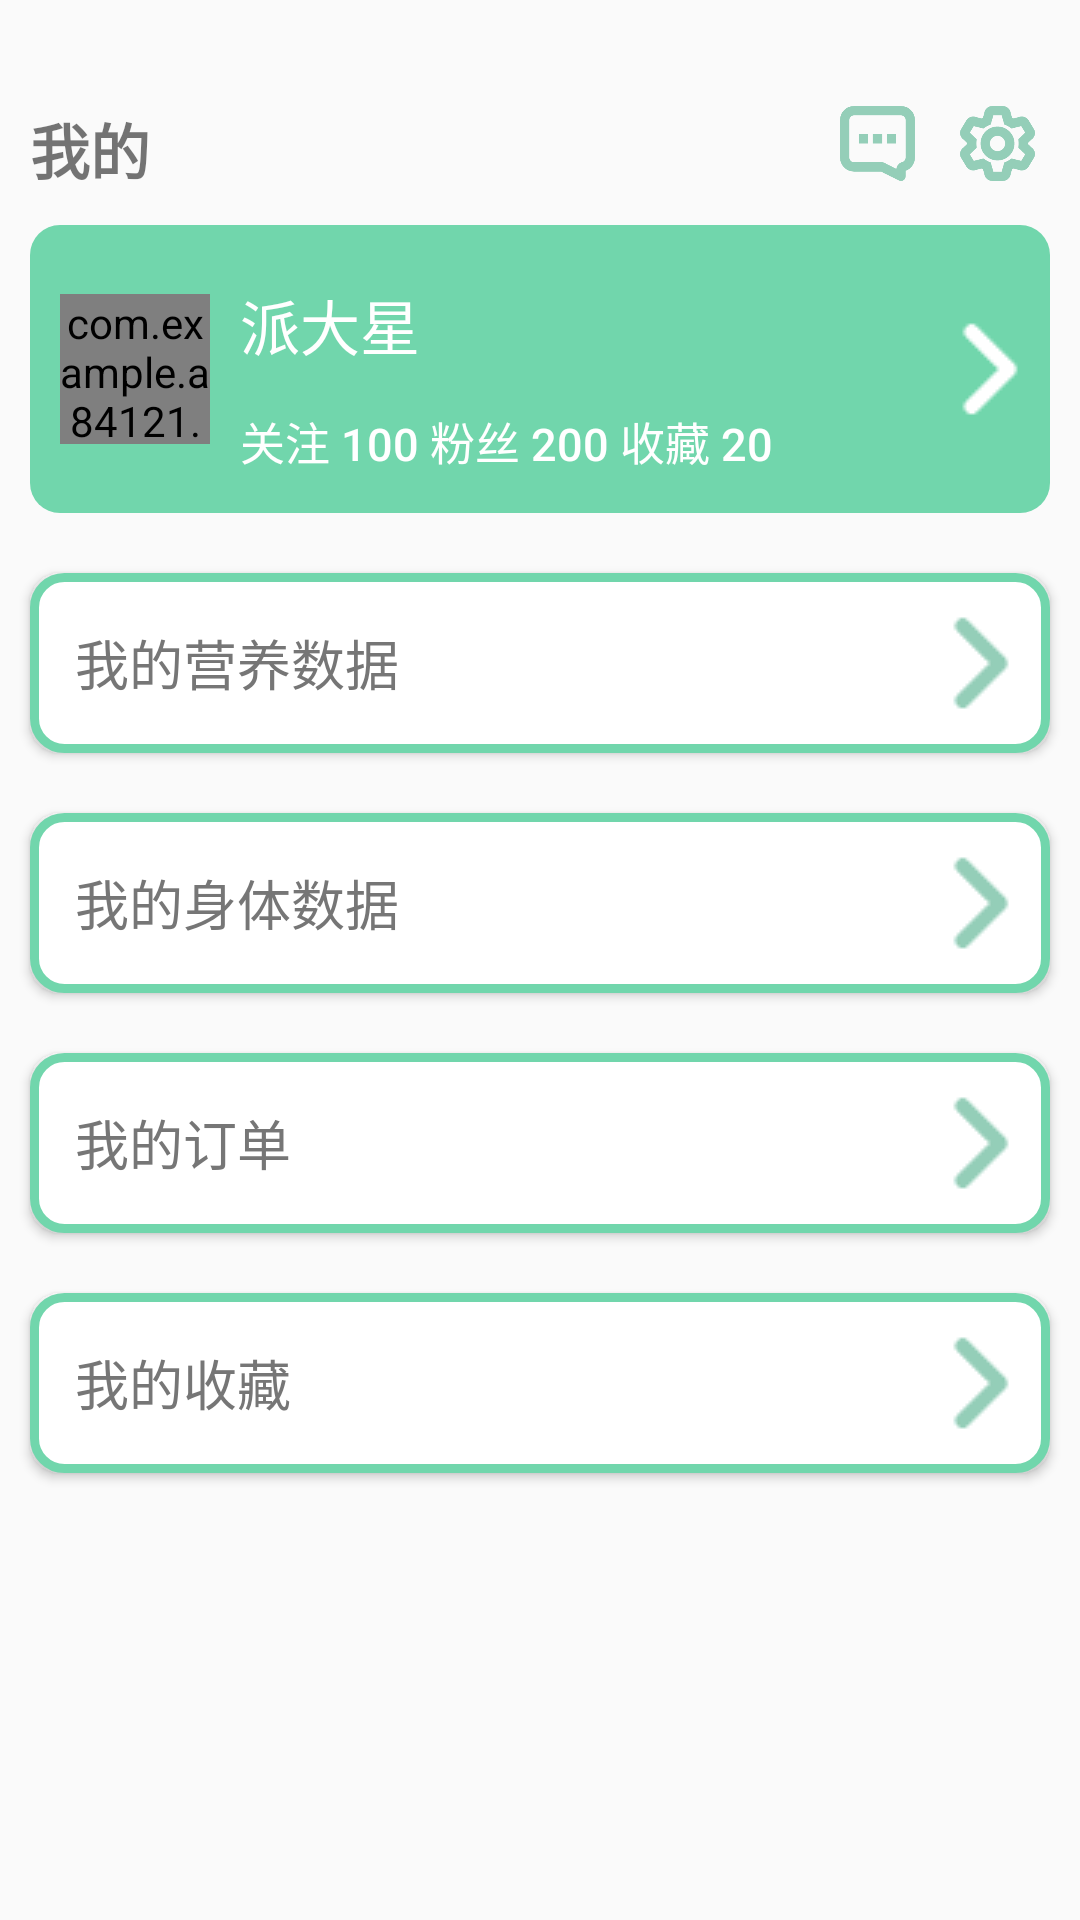

Where to tap for icons on this 1080×1920 app screen, as point (x, y):
message: point (877, 143)
setting: point (997, 143)
